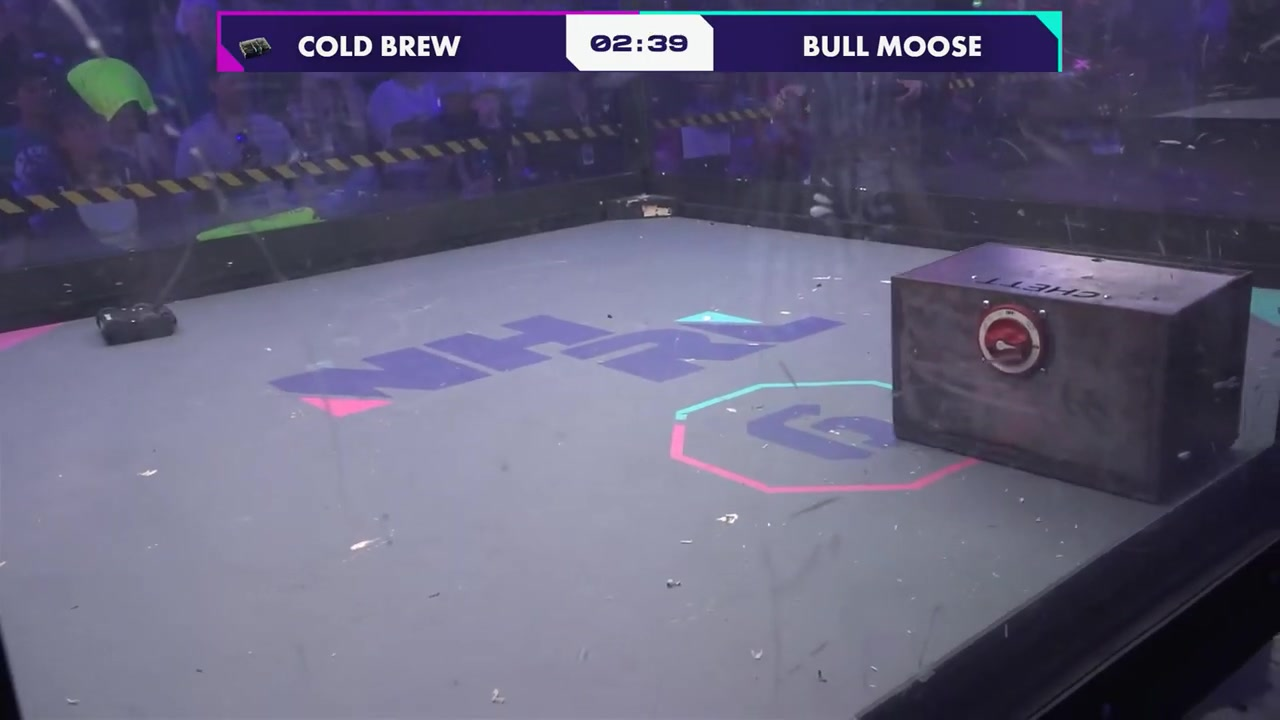combatbot: (94, 302, 179, 347)
housebot: (890, 239, 1251, 503)
